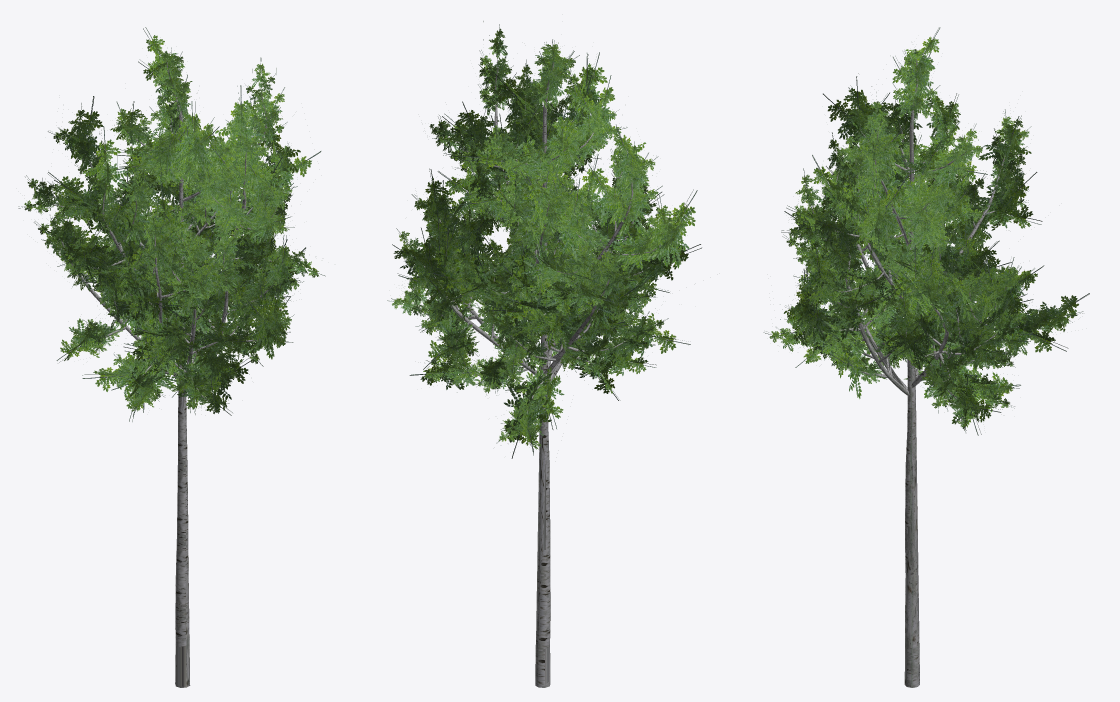
The model's file is ez-aspen-large.glb.
3 renders of one model, left to right at view 1: azimuth 30°, elevation 25°; view 2: azimuth 150°, elevation 25°; view 3: azimuth 270°, elevation 25°, orthographic. The views are drawn at different scales.
Parts seen in each view (by area): view 1: near, mid; view 2: mid, near; view 3: near, mid.
Boxes of the visible parts, x1,y1,x2,y2 form: near: (18, 46, 325, 687); mid: (47, 27, 321, 687); mid: (392, 39, 701, 687); near: (387, 21, 687, 687); near: (763, 45, 1083, 687); mid: (780, 27, 1089, 687).
Bounding box in the file's own units: 8.75 × 19.55 × 9.34.
Materials: 1 (1 with a texture image).
